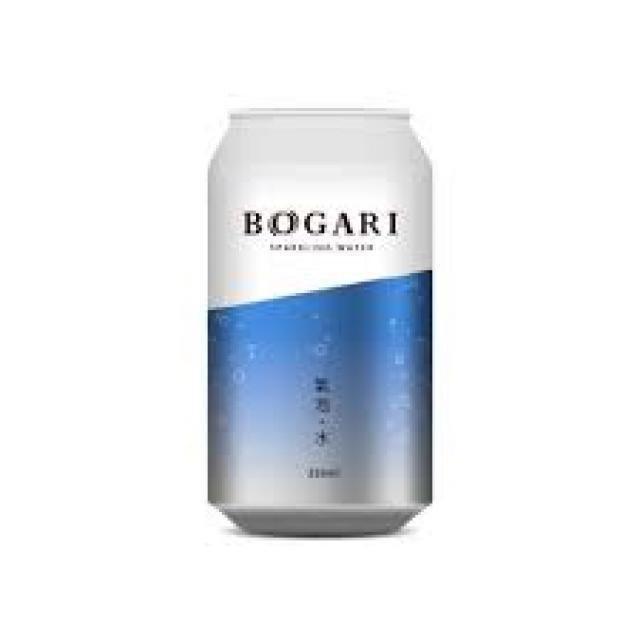recyclable: (204, 110, 434, 538)
